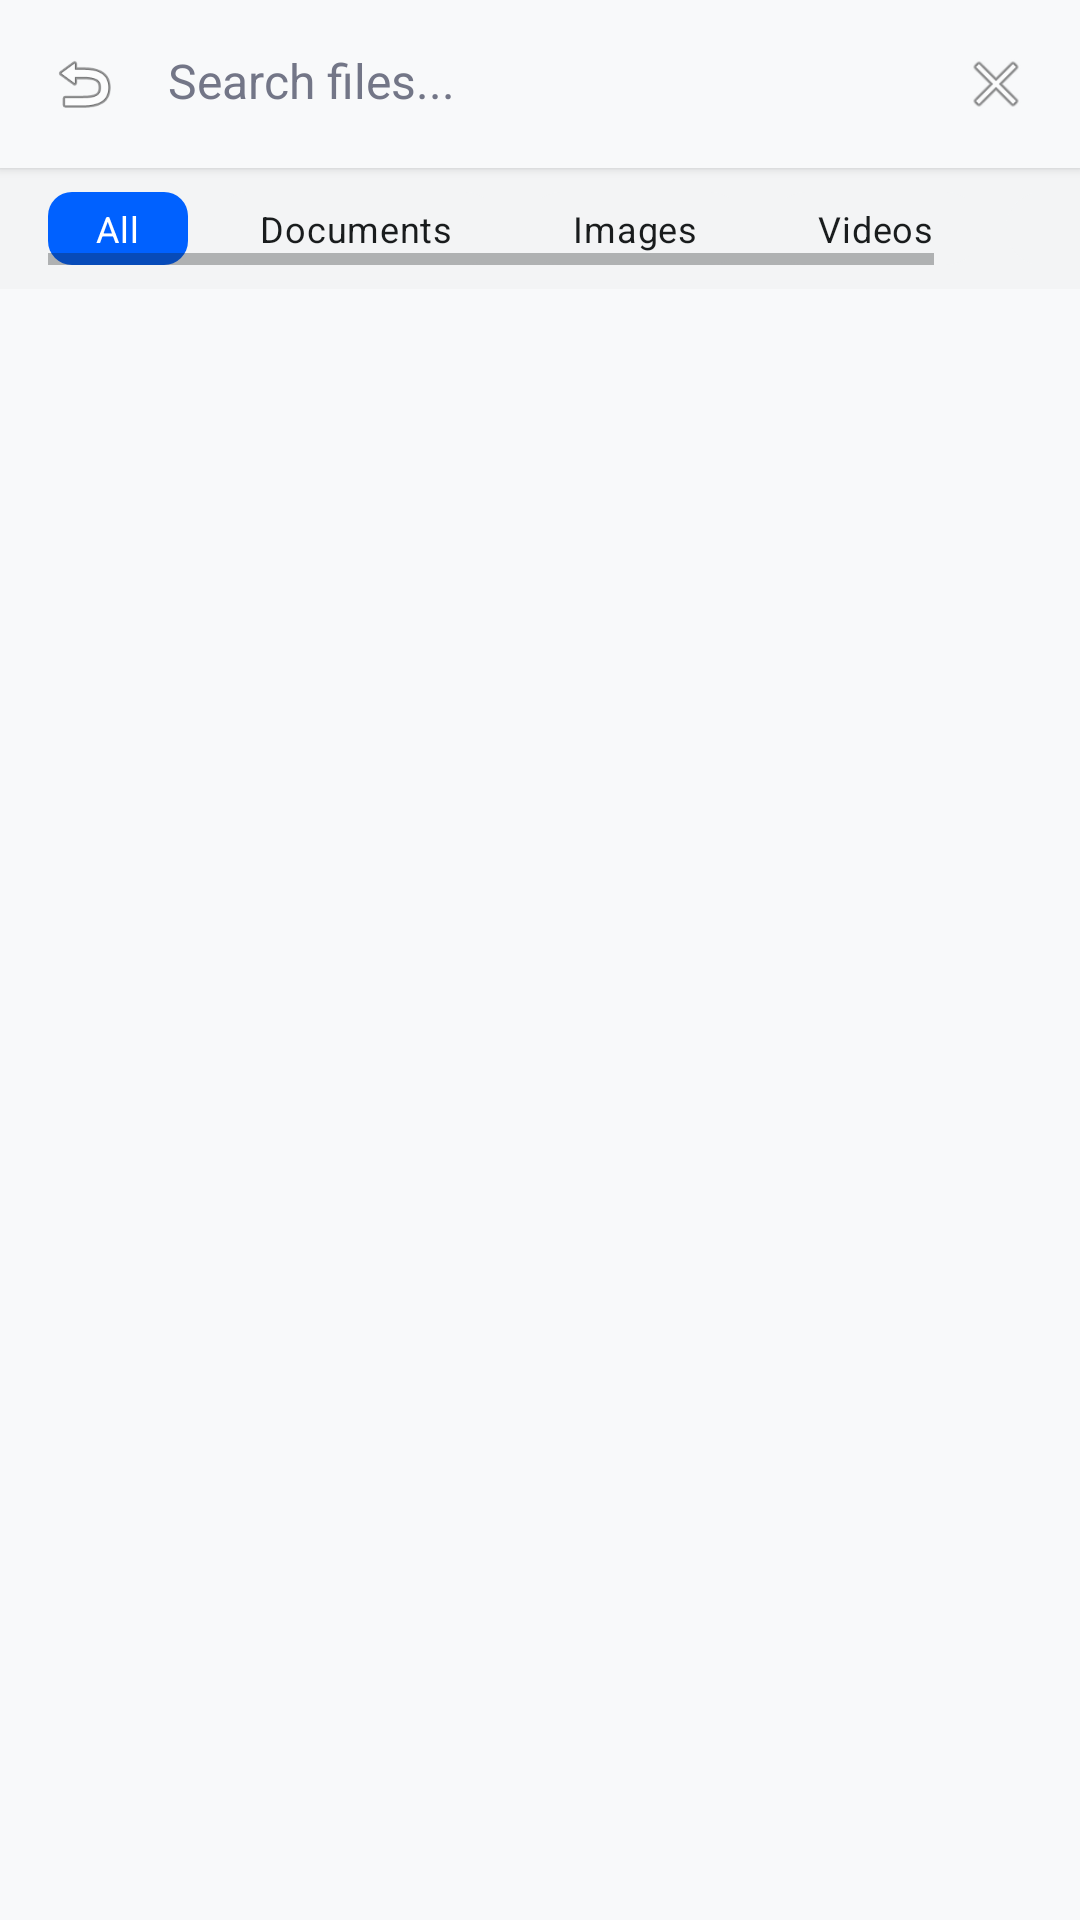

Named icons in this screenshot (1080px×1920px) and their bounding boxes, detection(x1, y1, x2, y2):
Back: detection(59, 61, 111, 108)
Clear: detection(973, 61, 1019, 107)
